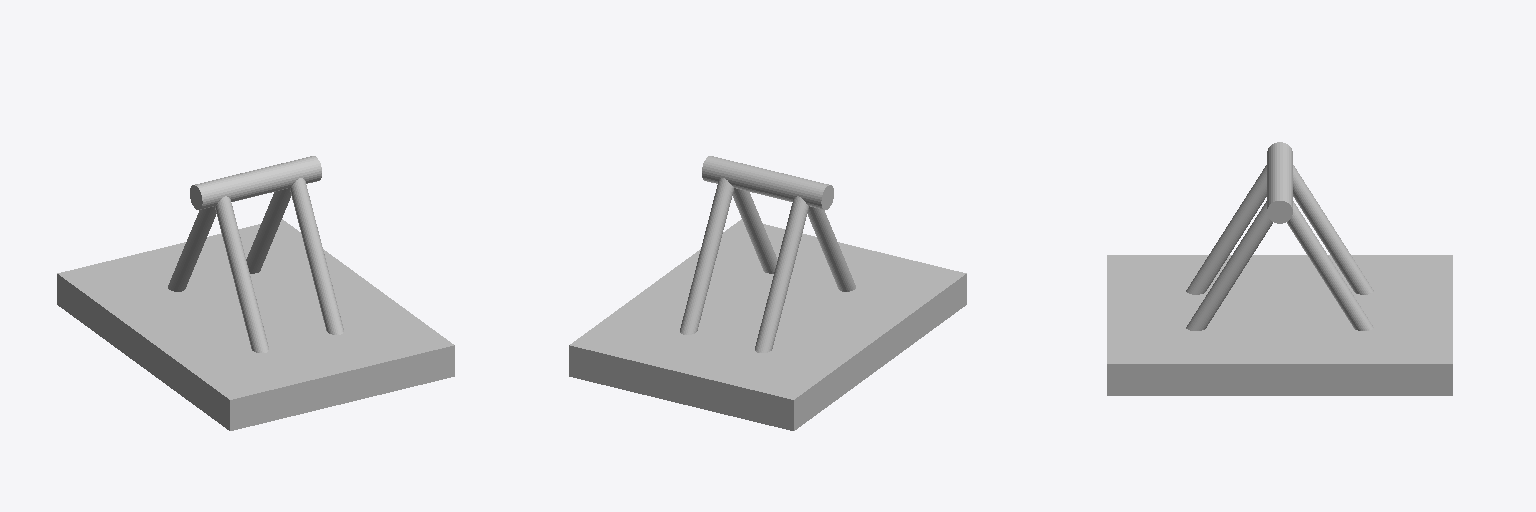
File: ferris_wheel_base.obj
3 views of the same model, side by side, from view 1: azimuth 30°, elevation 25°; view 2: azimuth 150°, elevation 25°; view 3: azimuth 270°, elevation 25° (orthographic).
Visible parts, largest first — view 1: Cube, Cylinder.004, Cylinder.001, Cylinder.003, Cylinder.002, Cylinder; view 2: Cube, Cylinder.004, Cylinder, Cylinder.002, Cylinder.003, Cylinder.001; view 3: Cube, Cylinder, Cylinder.001, Cylinder.002, Cylinder.003, Cylinder.004.
Boxes of the visible parts, <box> form: Cube: <box>57,219,454,430</box>; Cylinder.004: <box>190,156,321,209</box>; Cylinder.001: <box>290,178,343,334</box>; Cylinder.003: <box>215,196,268,352</box>; Cylinder.002: <box>168,206,216,291</box>; Cylinder: <box>246,188,290,273</box>; Cube: <box>569,219,966,430</box>; Cylinder.004: <box>702,156,833,209</box>; Cylinder: <box>680,178,733,334</box>; Cylinder.002: <box>755,196,808,352</box>; Cylinder.003: <box>807,206,855,291</box>; Cylinder.001: <box>733,188,777,273</box>; Cube: <box>1107,255,1452,395</box>; Cylinder: <box>1287,201,1373,330</box>; Cylinder.001: <box>1186,201,1272,330</box>; Cylinder.002: <box>1293,165,1373,294</box>; Cylinder.003: <box>1186,165,1266,294</box>; Cylinder.004: <box>1267,142,1292,223</box>.
Size of the model in its own units: 30 by 21.63 by 40.